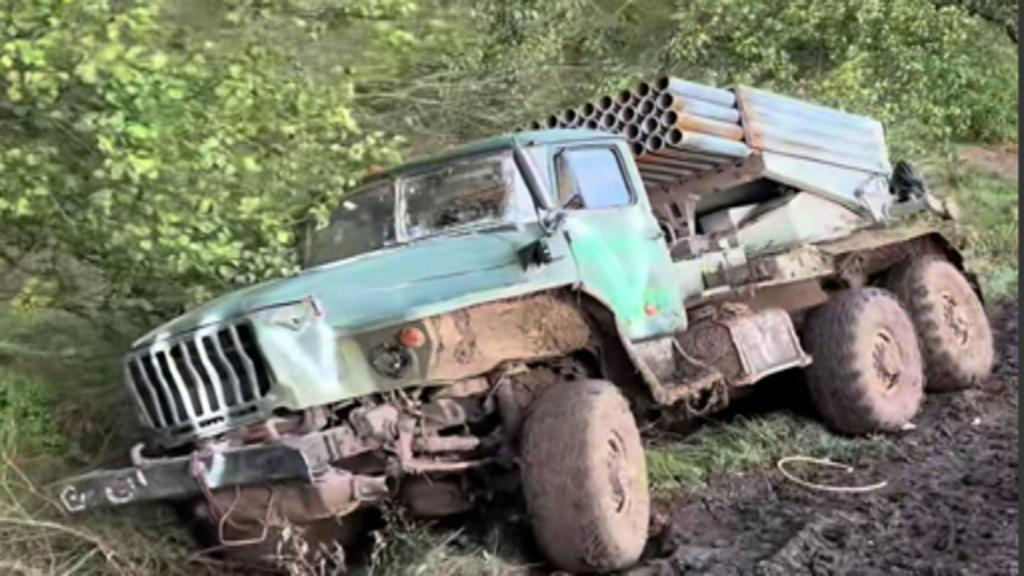MLRS: (90, 71, 992, 566)
